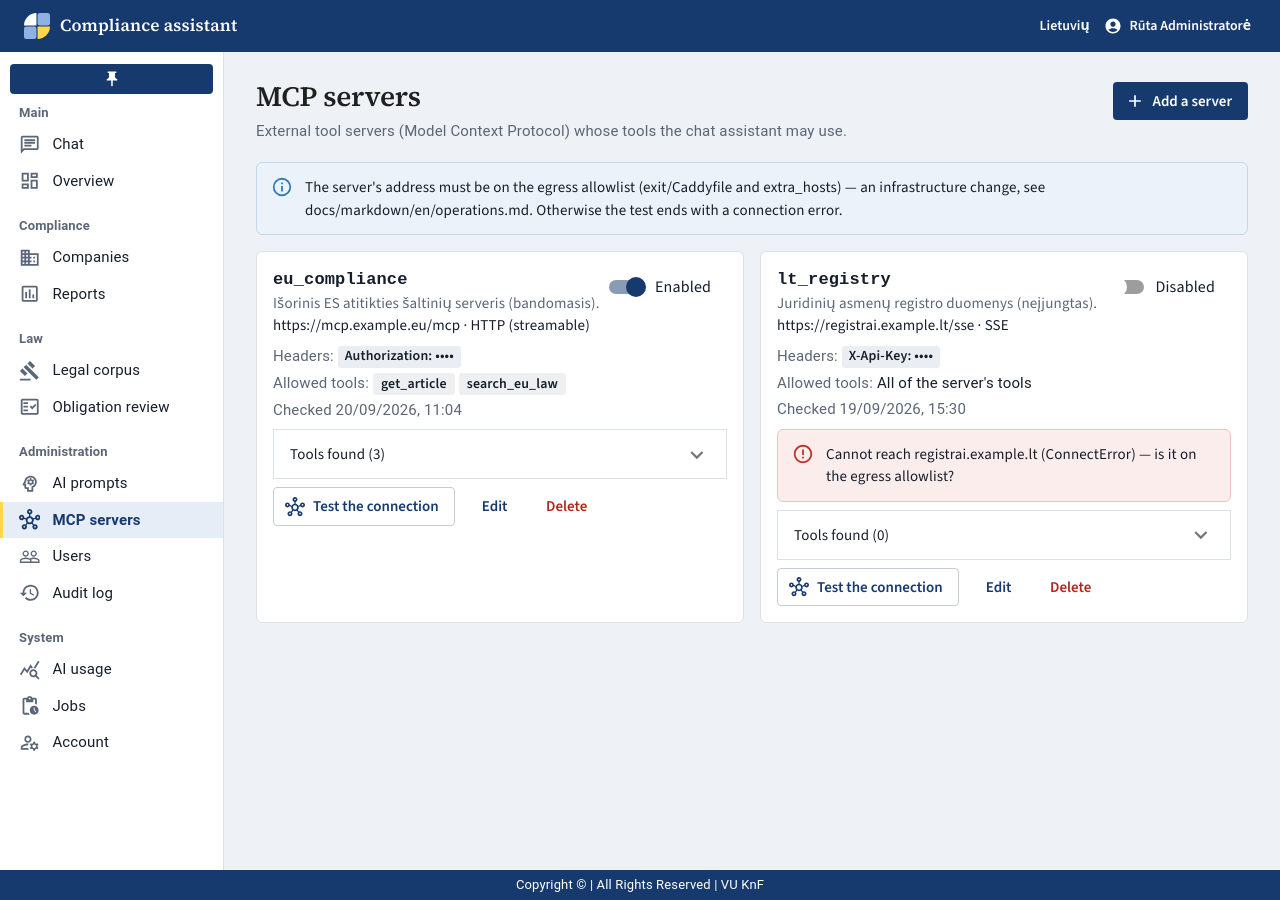
MCP servers page — the cards › the tools behind the accordion: each name with its description, or the hint to run the test
The width and height of the screenshot is (1280, 900).
Click the button "Tools found (3)": (338, 454) x1=274 y1=430 x2=726 y2=478
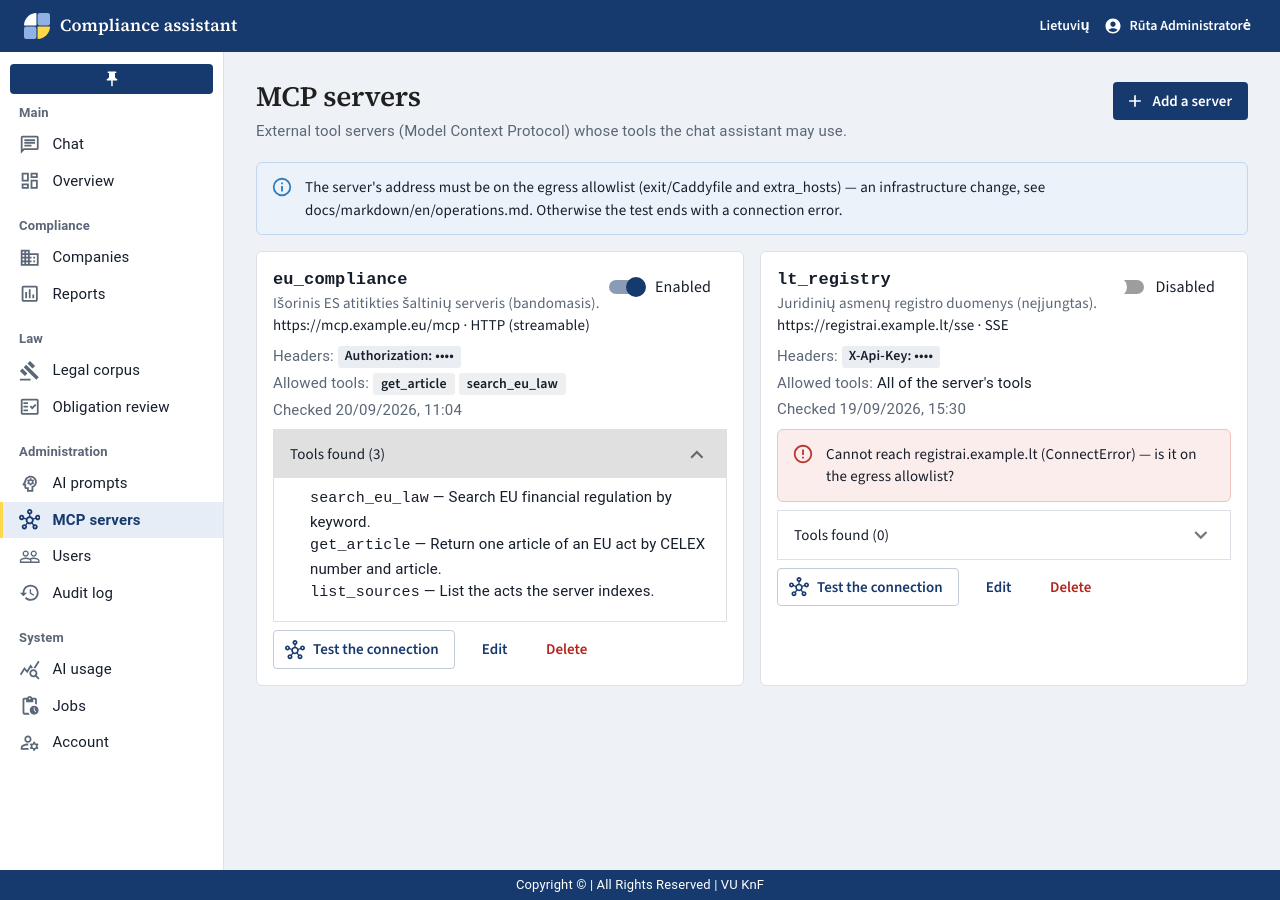
Expected: the button "Tools found (3)" is expanded, x1=274 y1=430 x2=726 y2=478
Expected: the list items read "search_eu_law — Search EU financial regulation by keyword.", "get_article — Return one article of an EU act by CELEX number and article.", "list_sources — List the acts the server indexes.", in this order, x1=310 y1=486 x2=710 y2=534; x1=310 y1=534 x2=710 y2=580; x1=310 y1=580 x2=710 y2=605
Click the button "Tools found (0)": (842, 535) x1=778 y1=511 x2=1230 y2=559
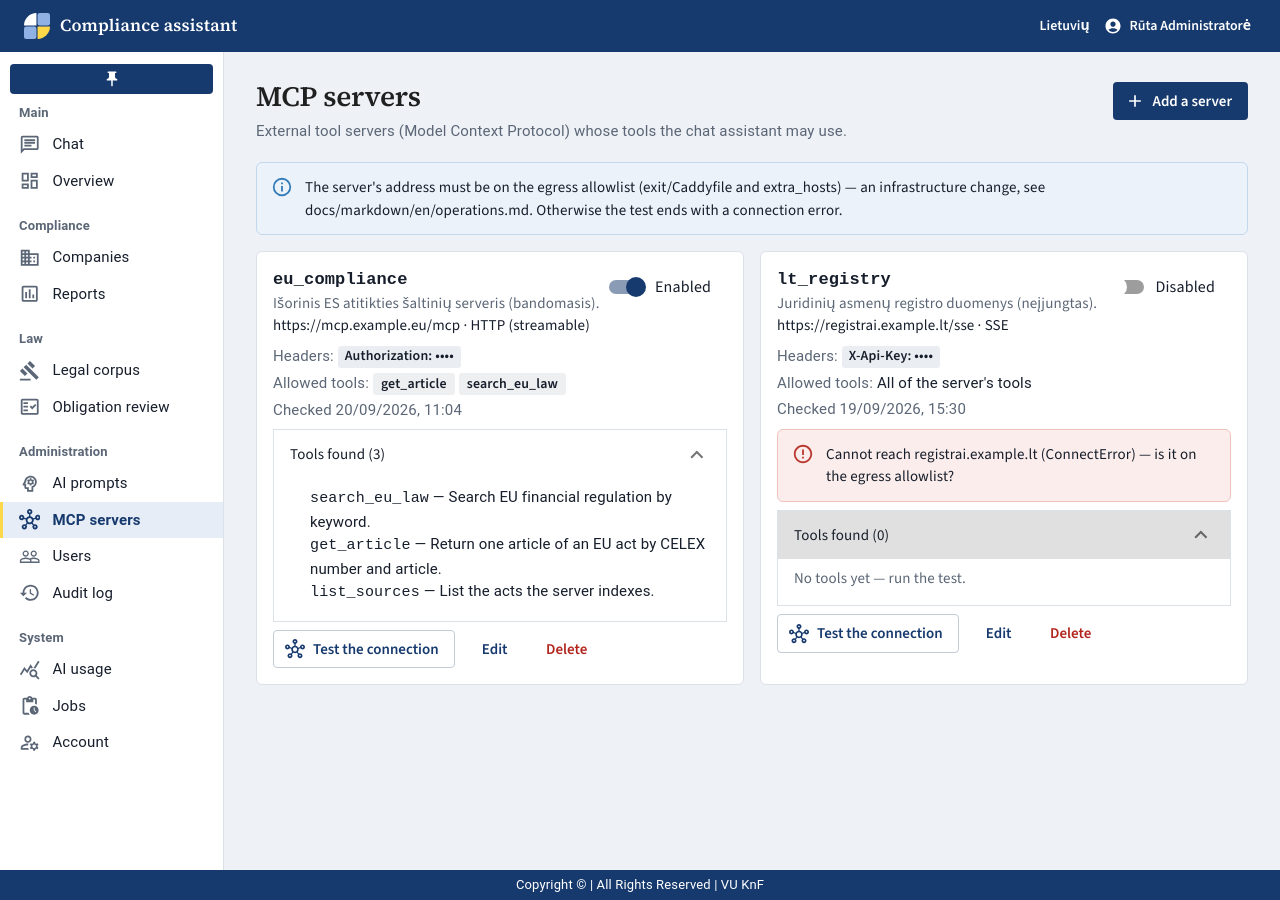
Expected: the text "No tools yet — run the test." is shown, x1=794 y1=568 x2=966 y2=588
